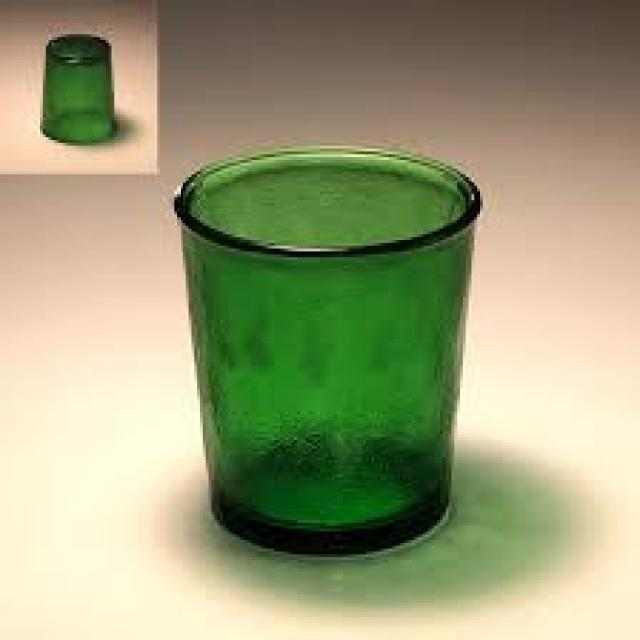glass: (169, 143, 480, 557), (37, 31, 114, 143)
